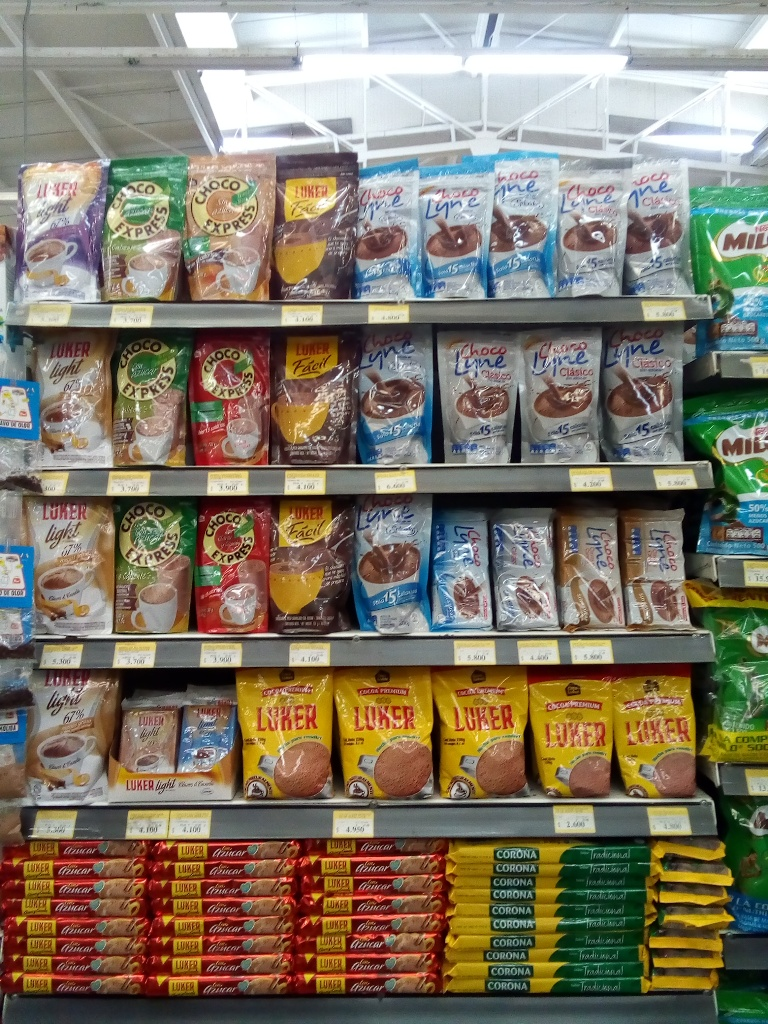COL0170205DYP50000: (696, 186, 768, 352)
